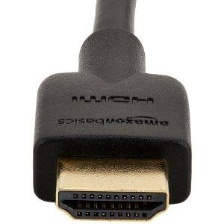hdmi_male: (9, 38, 206, 223)
